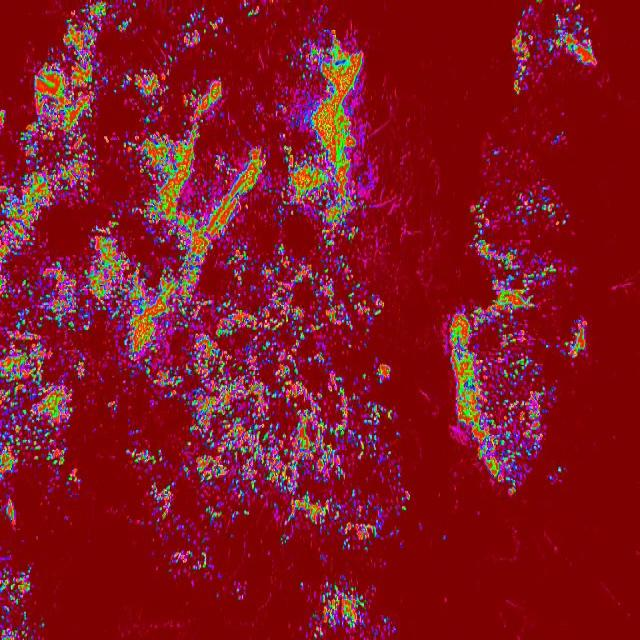fire: (62, 0, 390, 332), (123, 332, 404, 552), (448, 288, 556, 497), (0, 58, 61, 332), (0, 332, 86, 496), (468, 186, 570, 280), (297, 579, 401, 640), (512, 0, 603, 64), (0, 560, 45, 640), (162, 551, 211, 578), (512, 64, 547, 96), (566, 316, 588, 365), (0, 496, 21, 536)
